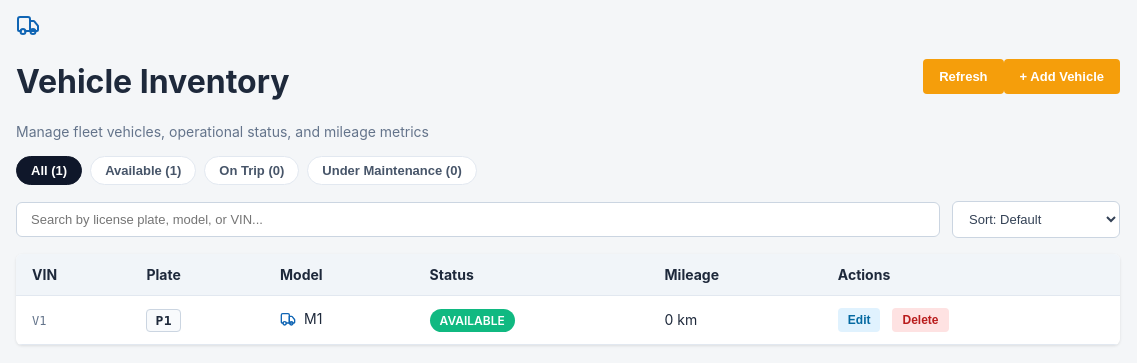
it: T17 — GET-ALL: list component renders domain records from backend mock
Step 1. Click the button "Delete" → (920, 320), box [892,308,948,332]
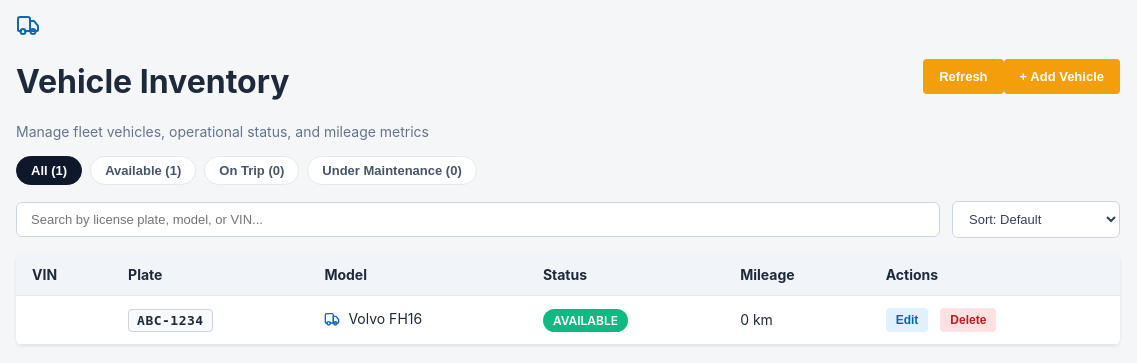
expect the text "ABC-1234" is shown: met, box [128,309,213,332]
expect the text "Volvo FH16" is shown: met, box [348,310,422,327]
